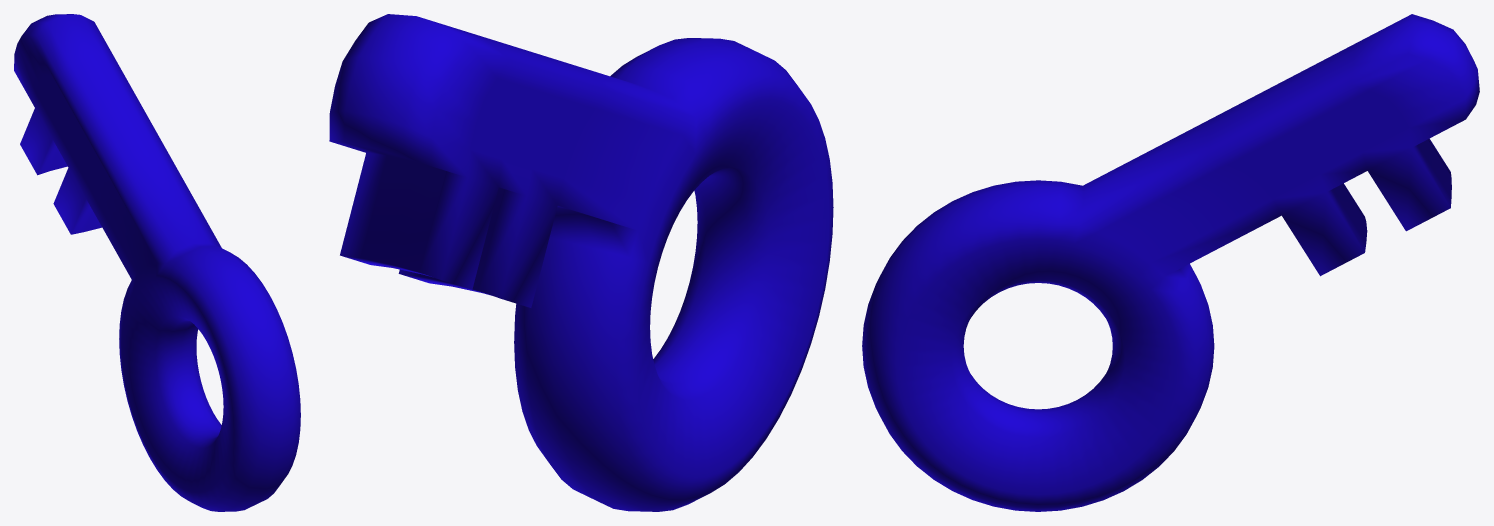
The model's file is FloorKey.fbx.
3 renders of one model, left to right at view 1: azimuth 30°, elevation 25°; view 2: azimuth 150°, elevation 25°; view 3: azimuth 270°, elevation 25°, orthographic. The views are drawn at different scales.
Parts seen in each view (by area): view 1: Key; view 2: Key; view 3: Key.
Boxes of the visible parts, x1,y1,x2,y2 form: Key: [14, 14, 300, 511]; Key: [329, 14, 833, 511]; Key: [862, 14, 1479, 511].
Bounding box in the file's own units: 28.51 × 154 × 178.
